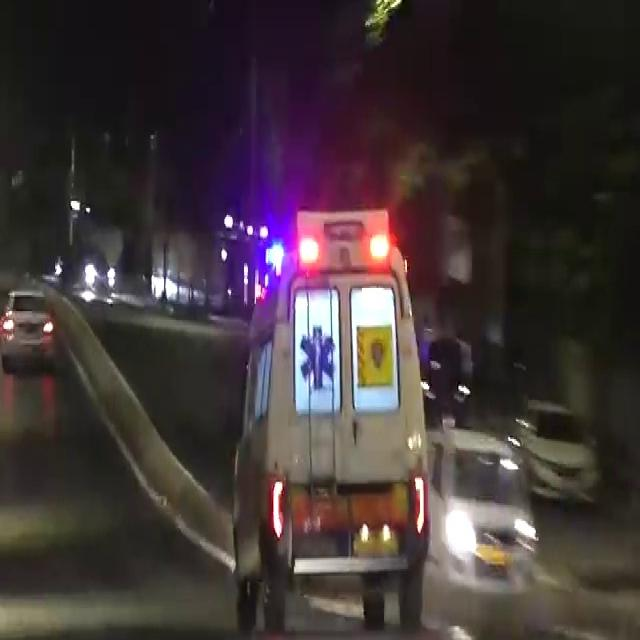ambulance: (240, 209, 446, 610)
